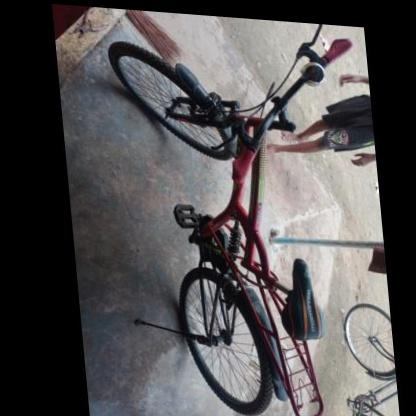Bicycle: (70, 25, 352, 415), (327, 295, 396, 415)
